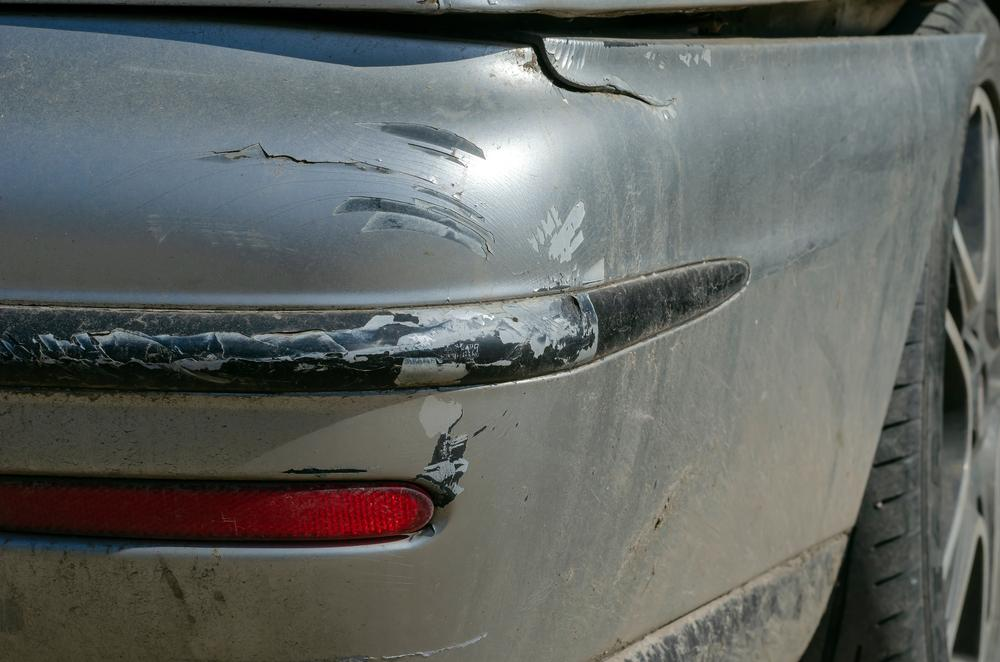crack: (528, 38, 677, 109)
scratch: (23, 107, 617, 510)
